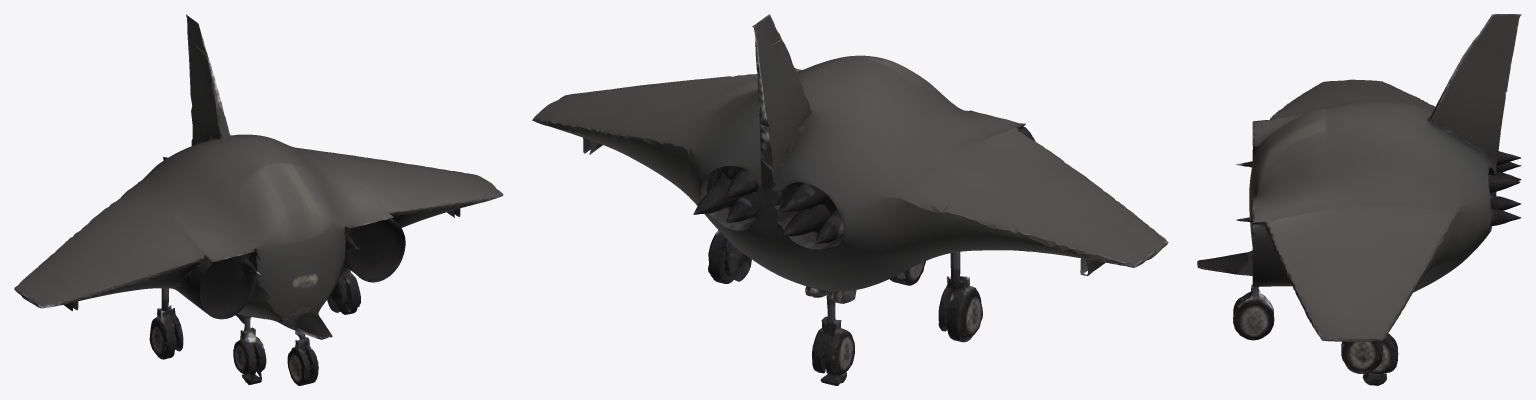
The model's file is phantom_cockpit.glb.
3 views of the same model, side by side, from view 1: azimuth 30°, elevation 25°; view 2: azimuth 150°, elevation 25°; view 3: azimuth 270°, elevation 25° (orthographic). The views are drawn at different scales.
Parts seen in each view (by area): view 1: phantom_cockpit; view 2: phantom_cockpit; view 3: phantom_cockpit.
Boxes of the visible parts, left/top/right/bottom form: phantom_cockpit: left=14, top=14, right=503, bottom=385; phantom_cockpit: left=532, top=14, right=1168, bottom=385; phantom_cockpit: left=1197, top=14, right=1521, bottom=385.
Size of the model in its own units: 1.89 by 1.25 by 0.9994.
Materials: 1 (1 with a texture image).
